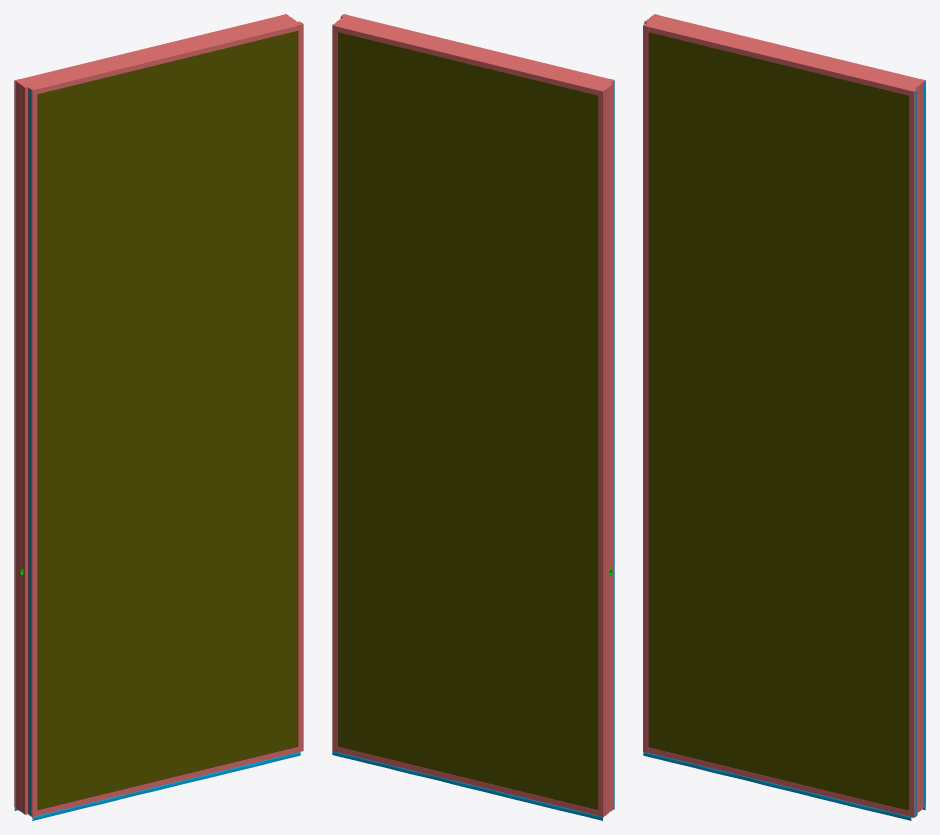
Rendered from Door_01C.fbx.
3 views of the same model, side by side, from view 1: azimuth 30°, elevation 25°; view 2: azimuth 150°, elevation 25°; view 3: azimuth 330°, elevation 25° (orthographic).
Visible parts, largest first — view 1: Door_01C; view 2: Door_01C; view 3: Door_01C.
Boxes of the visible parts, x1=… form: Door_01C: x1=14, y1=14, x2=303, y2=820; Door_01C: x1=332, y1=14, x2=614, y2=820; Door_01C: x1=643, y1=14, x2=925, y2=820.
Bounding box in the file's own units: 106 × 269 × 10.01.
